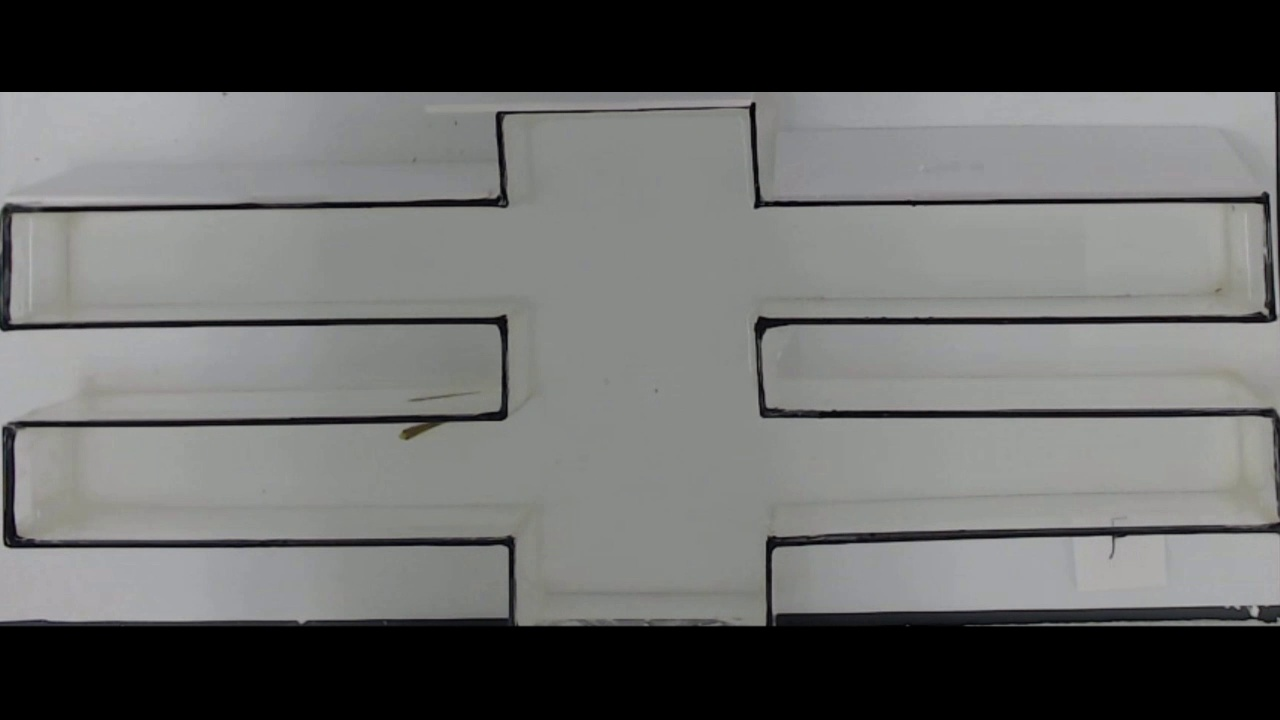fish: (382, 419, 464, 447)
